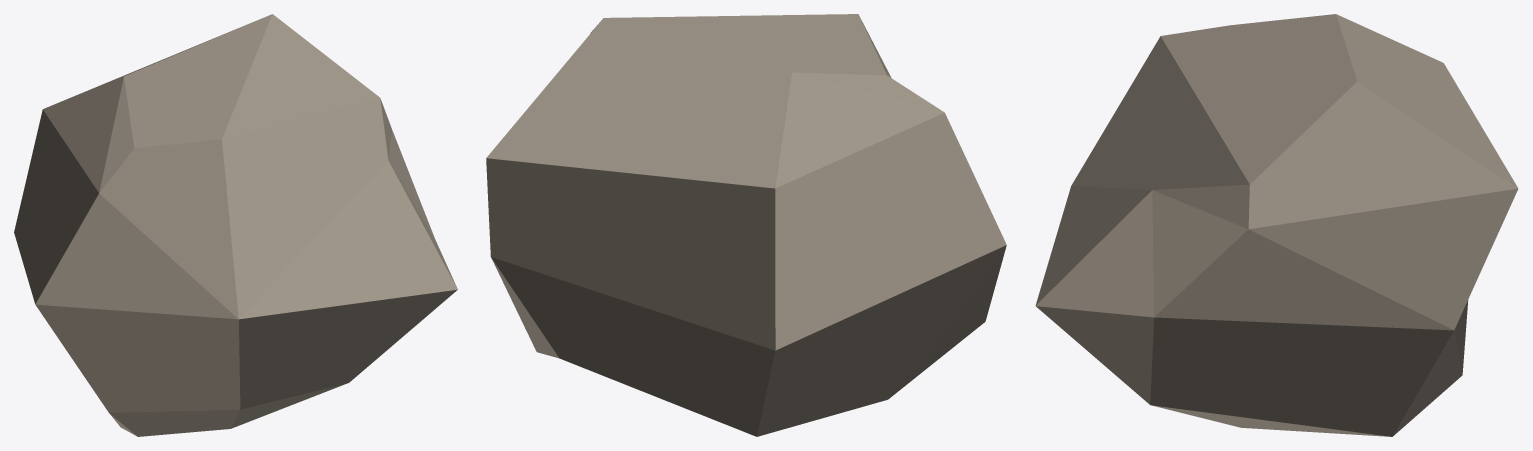
The model's file is SnowMechMediumBall3.fbx.
3 views of the same model, side by side, from view 1: azimuth 30°, elevation 25°; view 2: azimuth 150°, elevation 25°; view 3: azimuth 270°, elevation 25° (orthographic). The views are drawn at different scales.
Parts seen in each view (by area): view 1: SnowMechMediumBall3; view 2: SnowMechMediumBall3; view 3: SnowMechMediumBall3.
Part boxes in pixels (bbox=[...]): SnowMechMediumBall3: bbox=[14, 14, 457, 436]; SnowMechMediumBall3: bbox=[486, 14, 1006, 436]; SnowMechMediumBall3: bbox=[1035, 14, 1518, 436].
Bounding box in the file's own units: 429 × 362 × 434.
